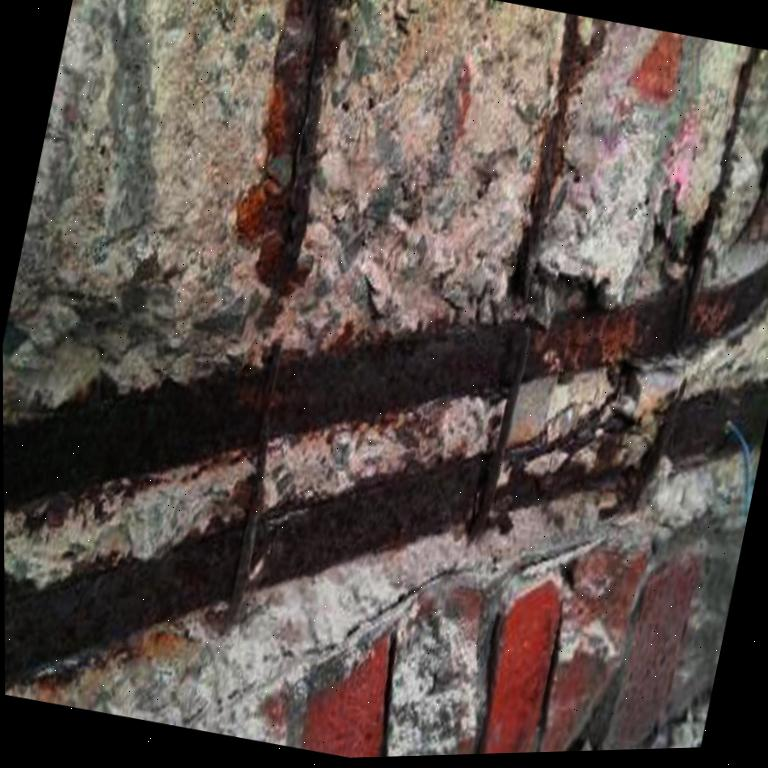exposed_rebar: (3, 327, 506, 688), (466, 259, 768, 535), (250, 0, 352, 320)
spalling: (3, 0, 768, 746)
